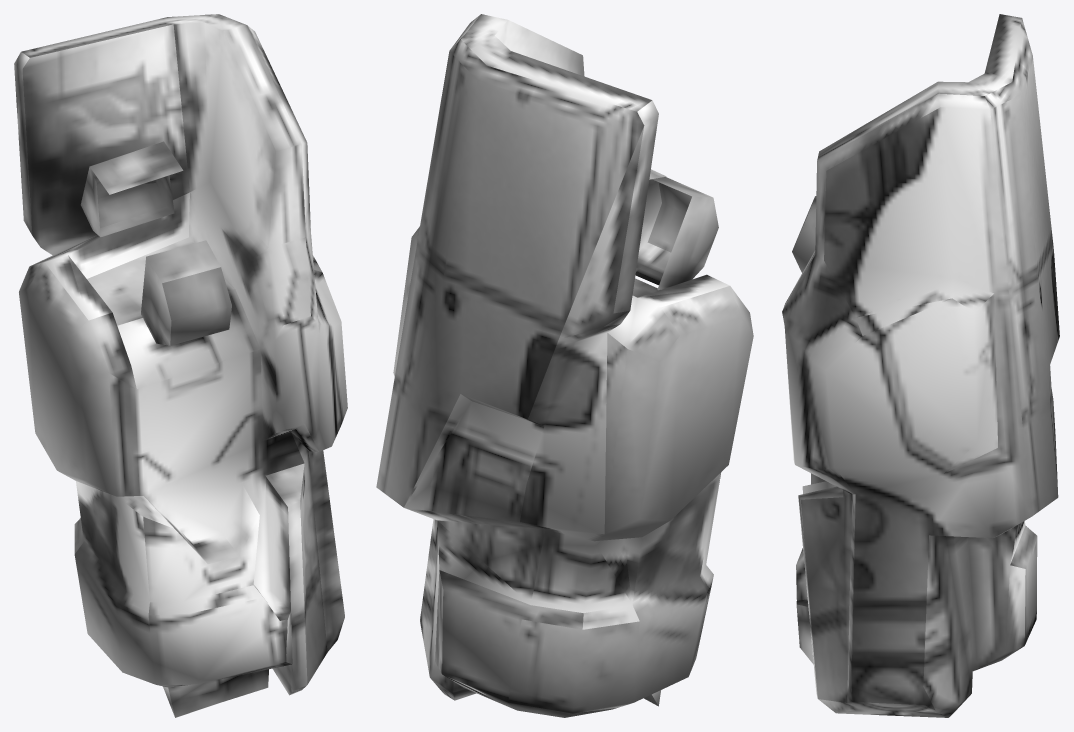
The model's file is l_fore.glb.
3 views of the same model, side by side, from view 1: azimuth 30°, elevation 25°; view 2: azimuth 150°, elevation 25°; view 3: azimuth 270°, elevation 25° (orthographic). The views are drawn at different scales.
Parts seen in each view (by area): view 1: l_fore; view 2: l_fore; view 3: l_fore.
Boxes of the visible parts, x1=… form: l_fore: x1=14, y1=14, x2=347, y2=717; l_fore: x1=376, y1=14, x2=753, y2=717; l_fore: x1=782, y1=14, x2=1059, y2=717.
Bounding box in the file's own units: 0.4156 × 0.9257 × 0.3742.
3 materials, 3 textured.
